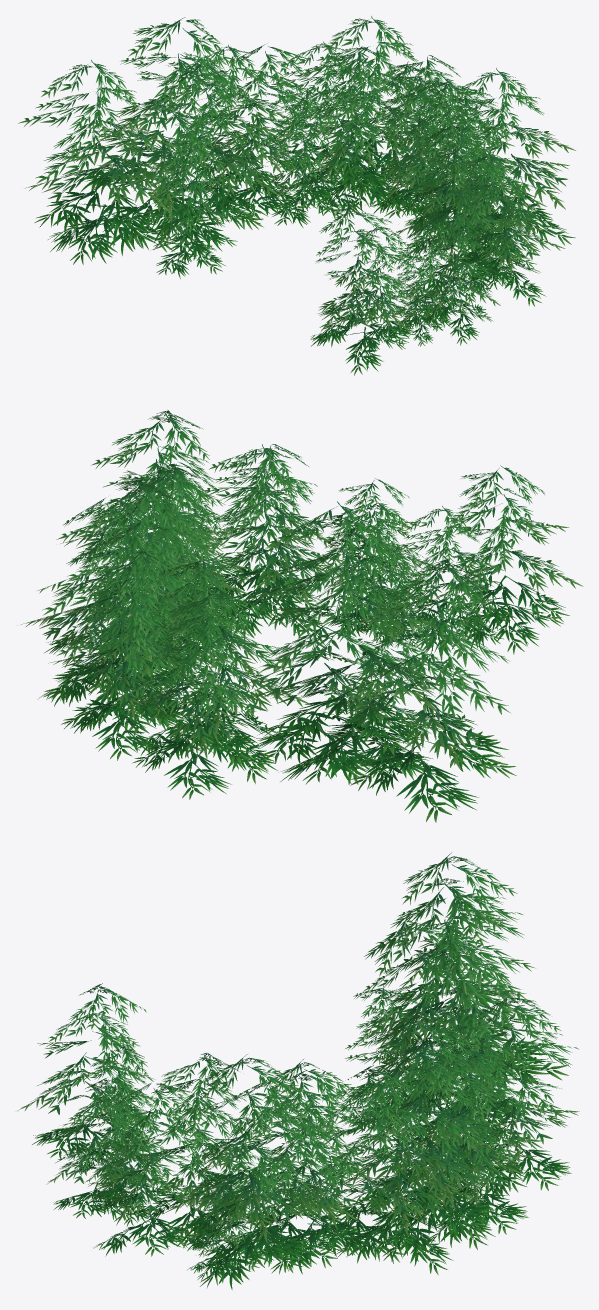
The model's file is Area_05_1.fbx.
The picture shows the model from 3 angles, top to bottom: view 1: azimuth 30°, elevation 25°; view 2: azimuth 150°, elevation 25°; view 3: azimuth 270°, elevation 25°; orthographic projection. The views are drawn at different scales.
Parts seen in each view (by area): view 1: Area_05_1; view 2: Area_05_1; view 3: Area_05_1.
Part boxes in pixels (x1,y1,x2,y2): Area_05_1: (18, 16, 575, 375); Area_05_1: (21, 410, 583, 822); Area_05_1: (17, 852, 579, 1289).
Size of the model in its own units: 4592 by 2288 by 4287.
